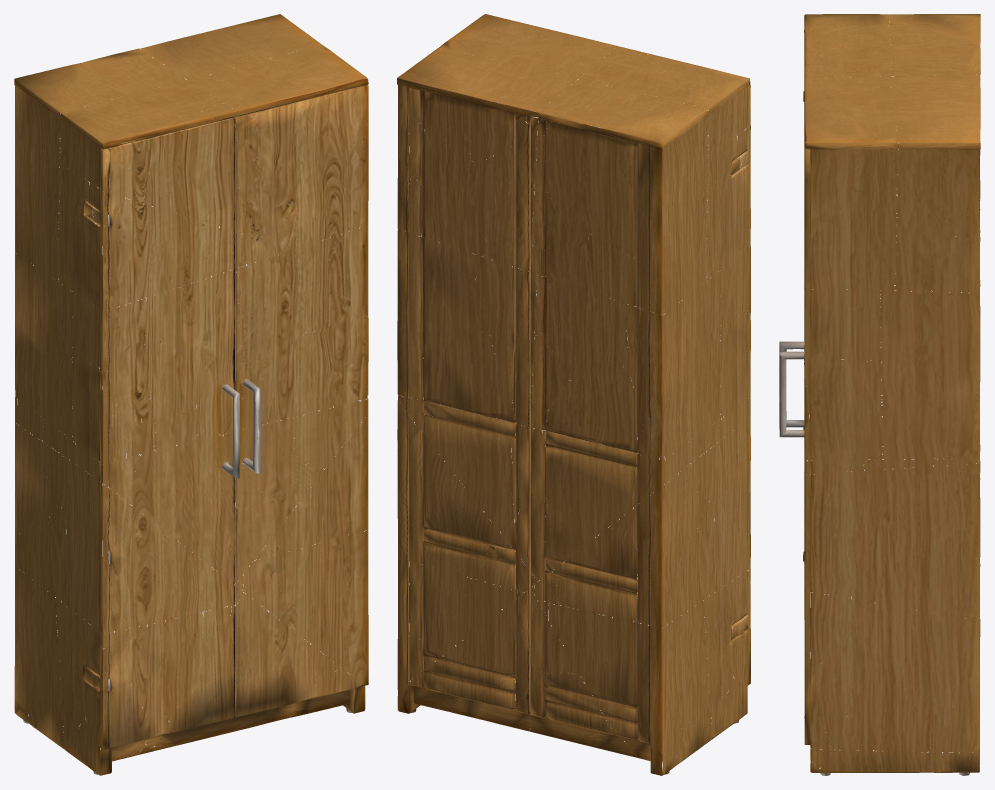
Rendered from wardrobe.glb.
3 views of the same model, side by side, from view 1: azimuth 30°, elevation 25°; view 2: azimuth 150°, elevation 25°; view 3: azimuth 270°, elevation 25° (orthographic).
Visible parts, largest first — view 1: wardrobe; view 2: wardrobe; view 3: wardrobe.
Part boxes in pixels (<box>): wardrobe: <box>14,14,368,775</box>; wardrobe: <box>397,14,750,775</box>; wardrobe: <box>779,14,980,775</box>.
Bounding box in the file's own units: 0.75 × 1.72 × 0.495.
1 material, 1 textured.
